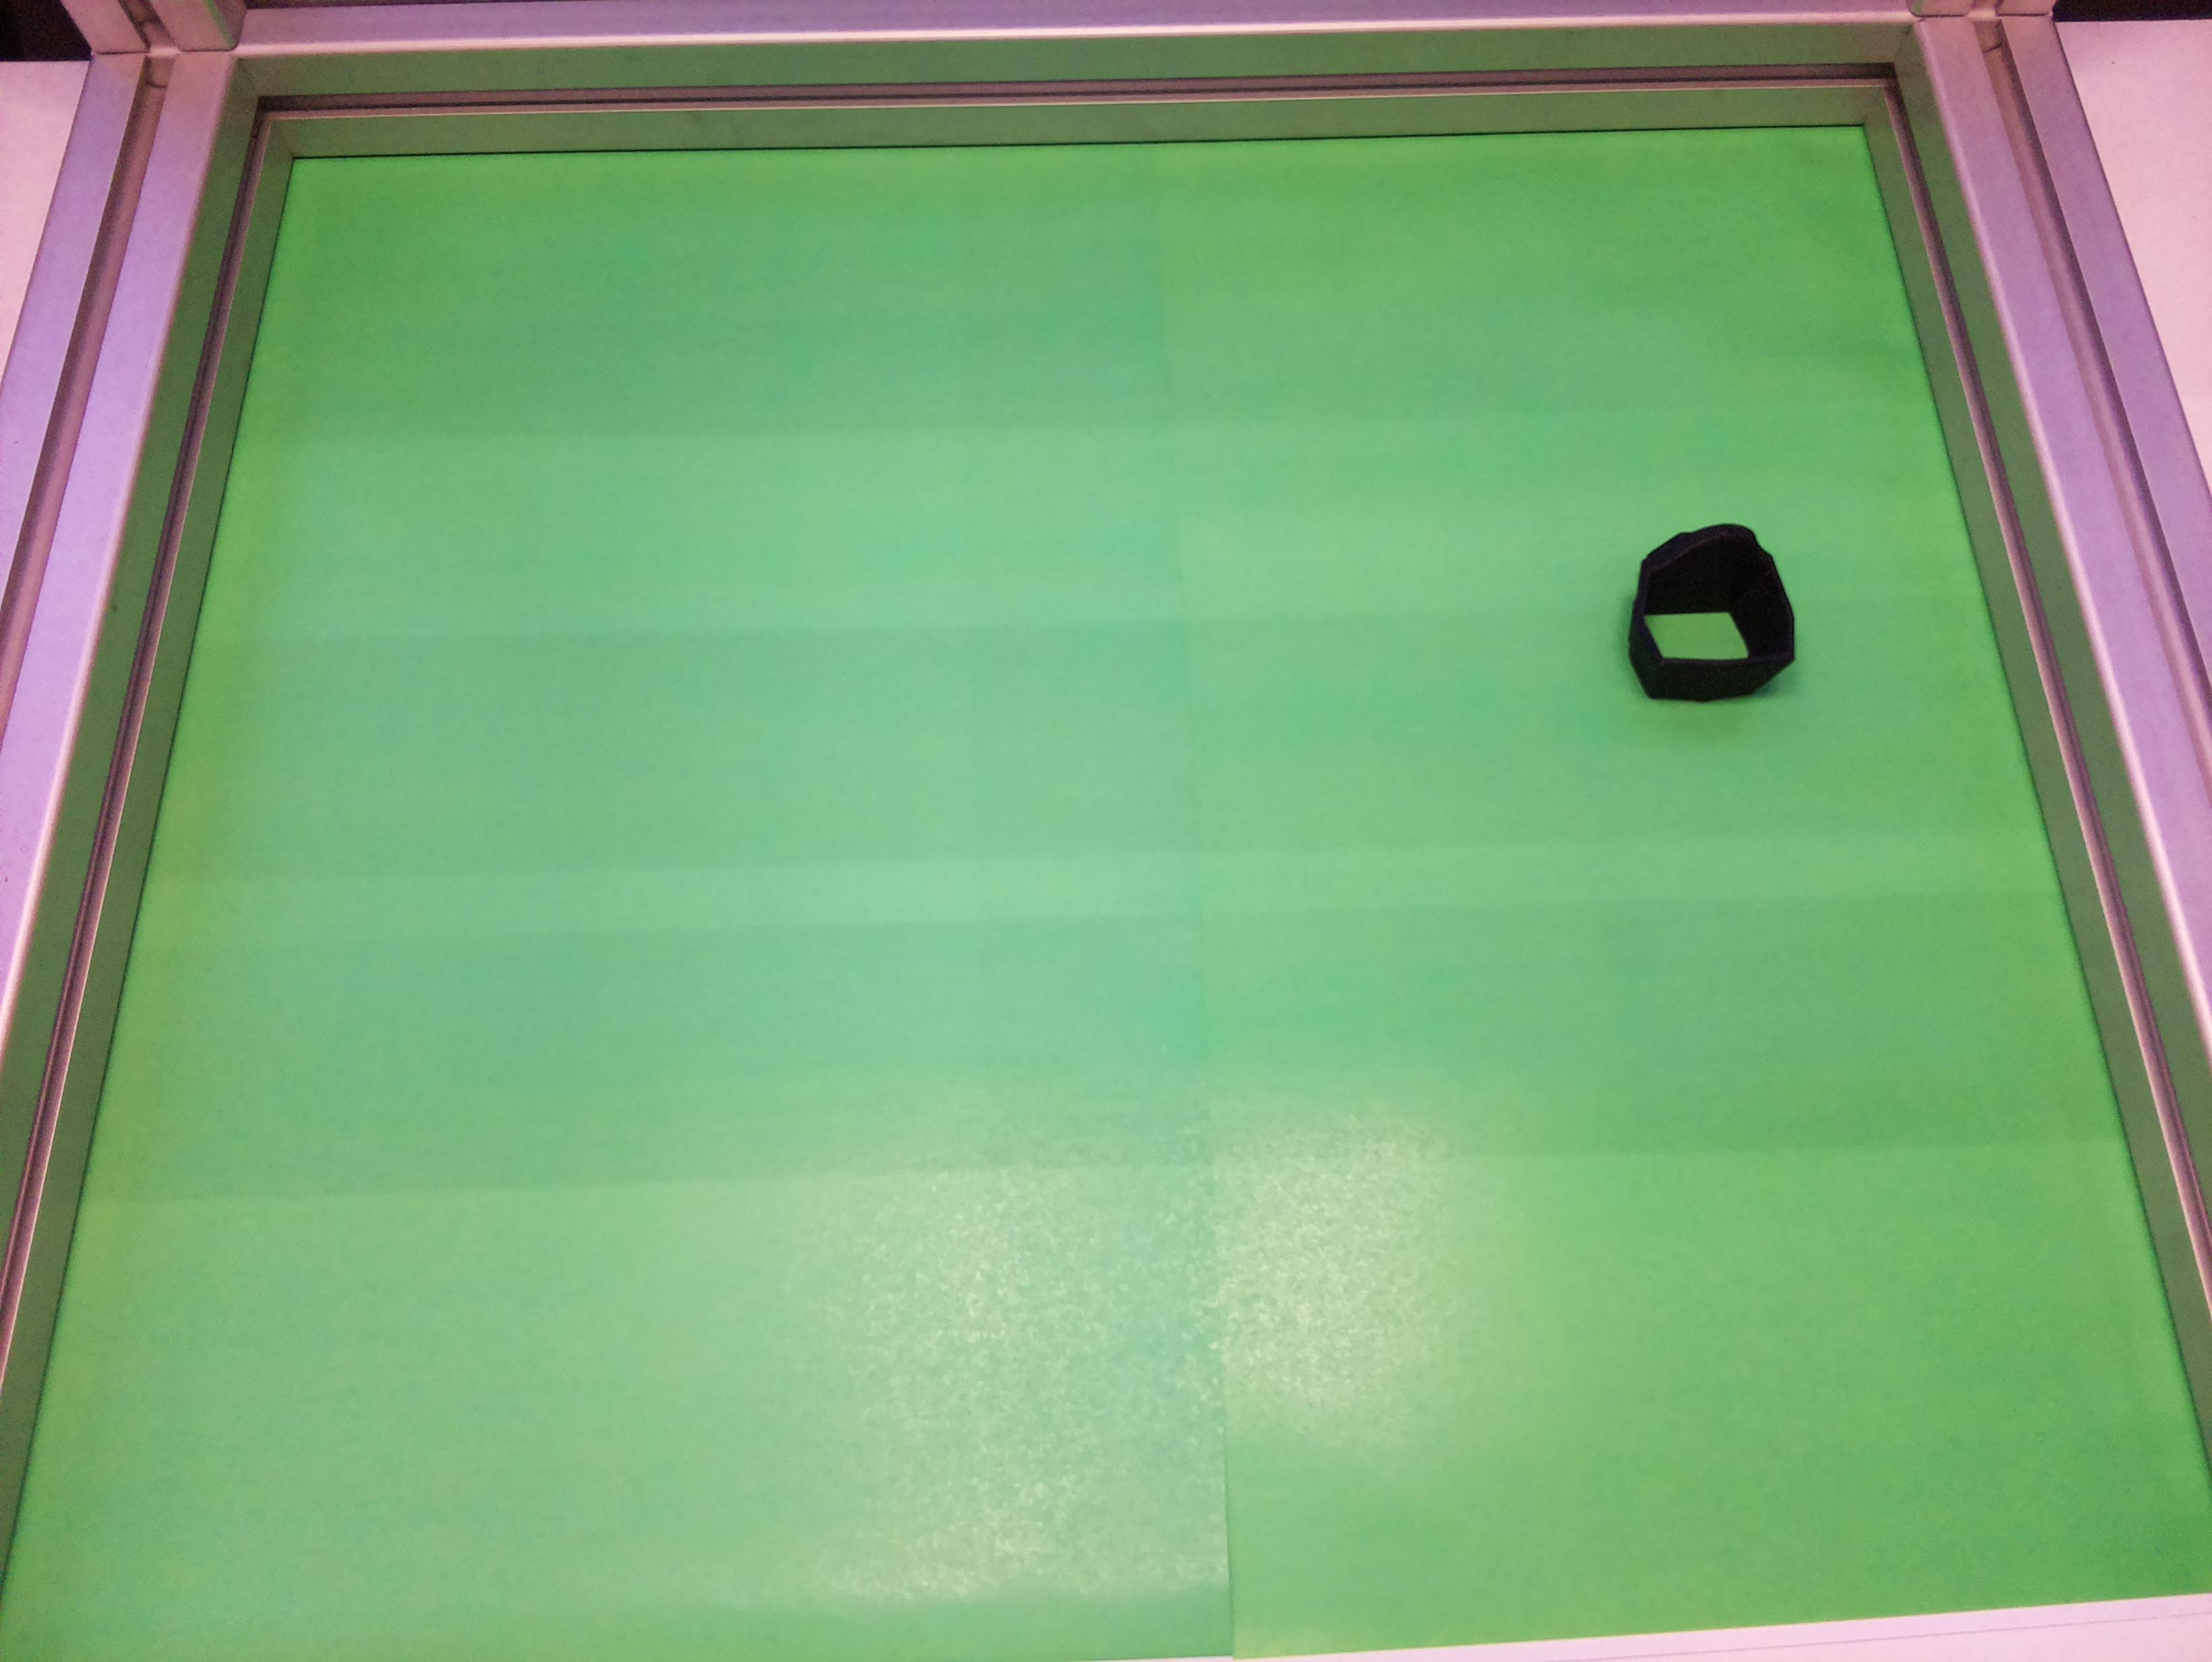scissor_holder: (1613, 515, 1805, 712)
